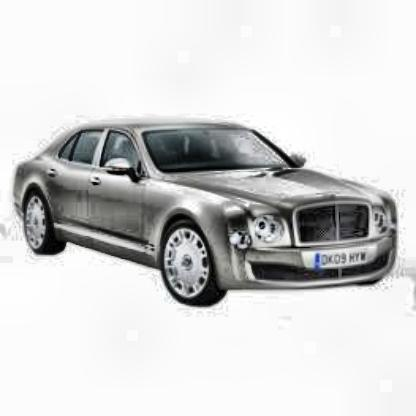Bentley Mulsanne Sedan 2011: (14, 122, 403, 311)
